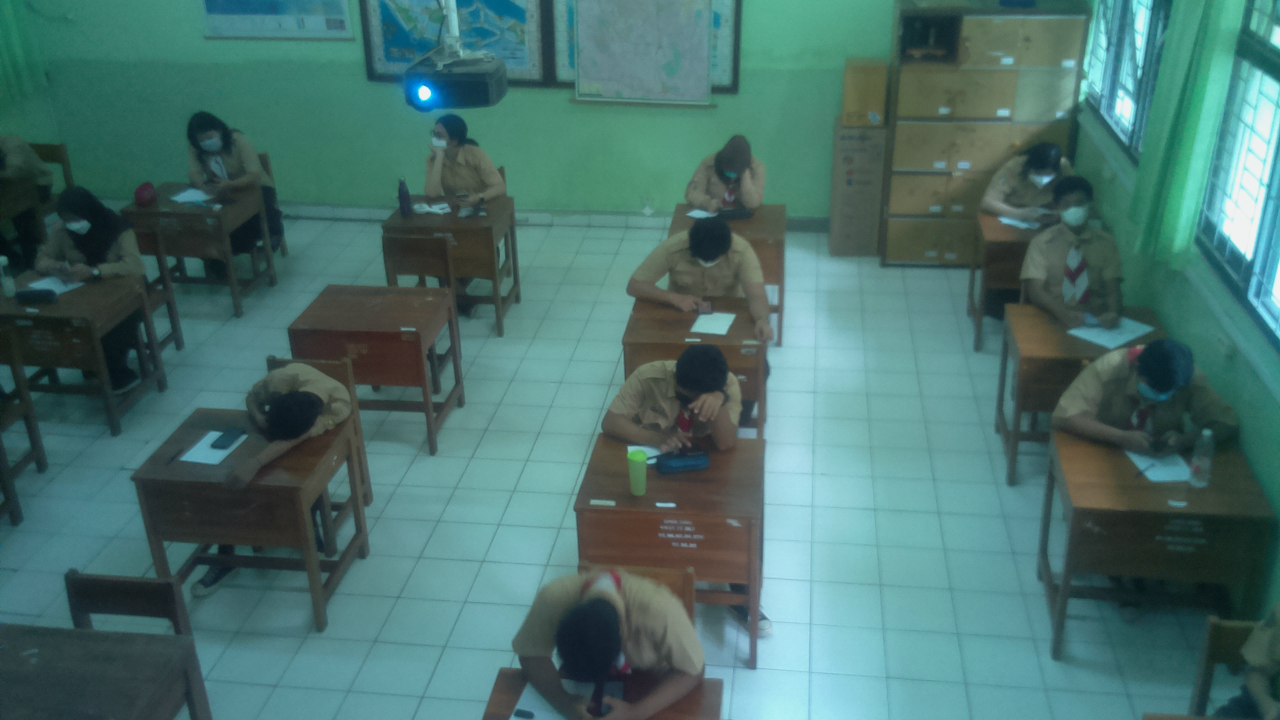Student: (527, 563, 691, 677), (1081, 339, 1214, 442), (1034, 180, 1123, 309), (627, 339, 739, 433), (243, 365, 354, 442), (51, 185, 139, 281), (661, 213, 758, 297), (423, 115, 506, 202), (183, 113, 262, 192), (693, 135, 766, 210), (989, 147, 1058, 213)
